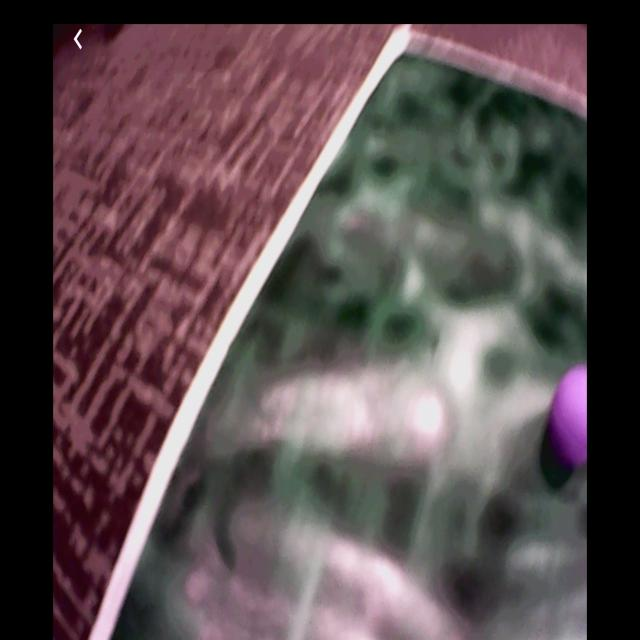ball: (552, 366, 588, 471)
